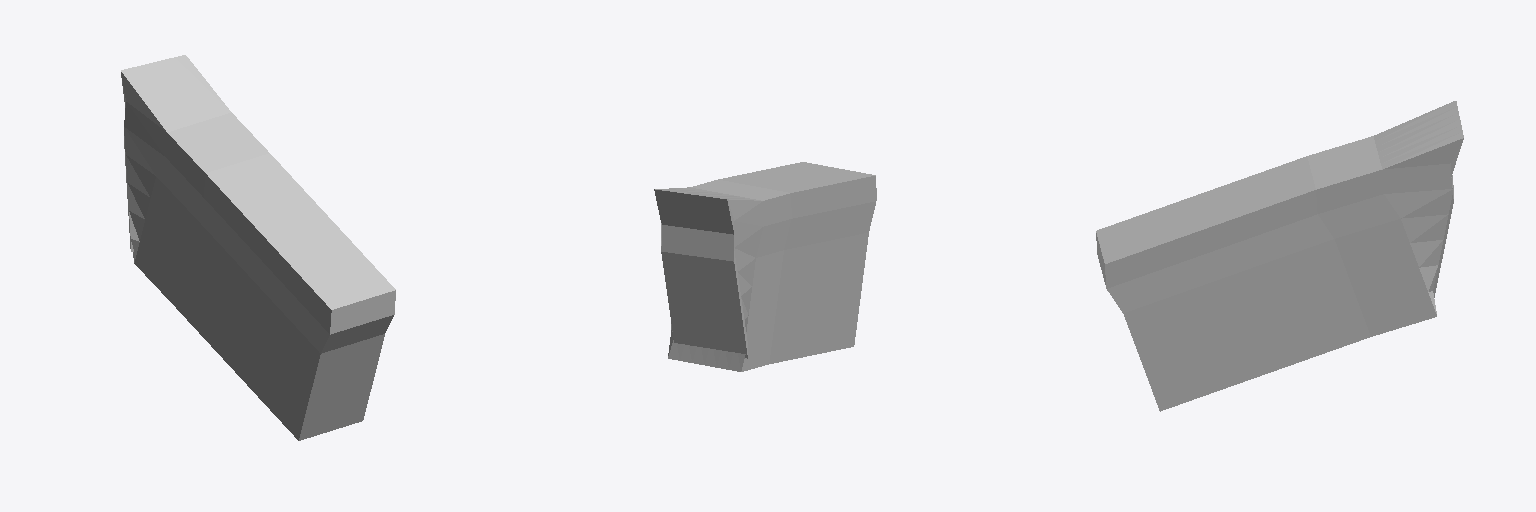
The model's file is loop_ramp.obj.
3 views of the same model, side by side, from view 1: azimuth 30°, elevation 25°; view 2: azimuth 150°, elevation 25°; view 3: azimuth 270°, elevation 25° (orthographic).
Visible parts, largest first — view 1: Cube_Cube.001; view 2: Cube_Cube.001; view 3: Cube_Cube.001.
Boxes of the visible parts, <box> form: Cube_Cube.001: <box>121,55,395,440</box>; Cube_Cube.001: <box>654,162,876,371</box>; Cube_Cube.001: <box>1096,101,1463,411</box>.
Size of the model in its own units: 4.61 by 11.09 by 13.95.